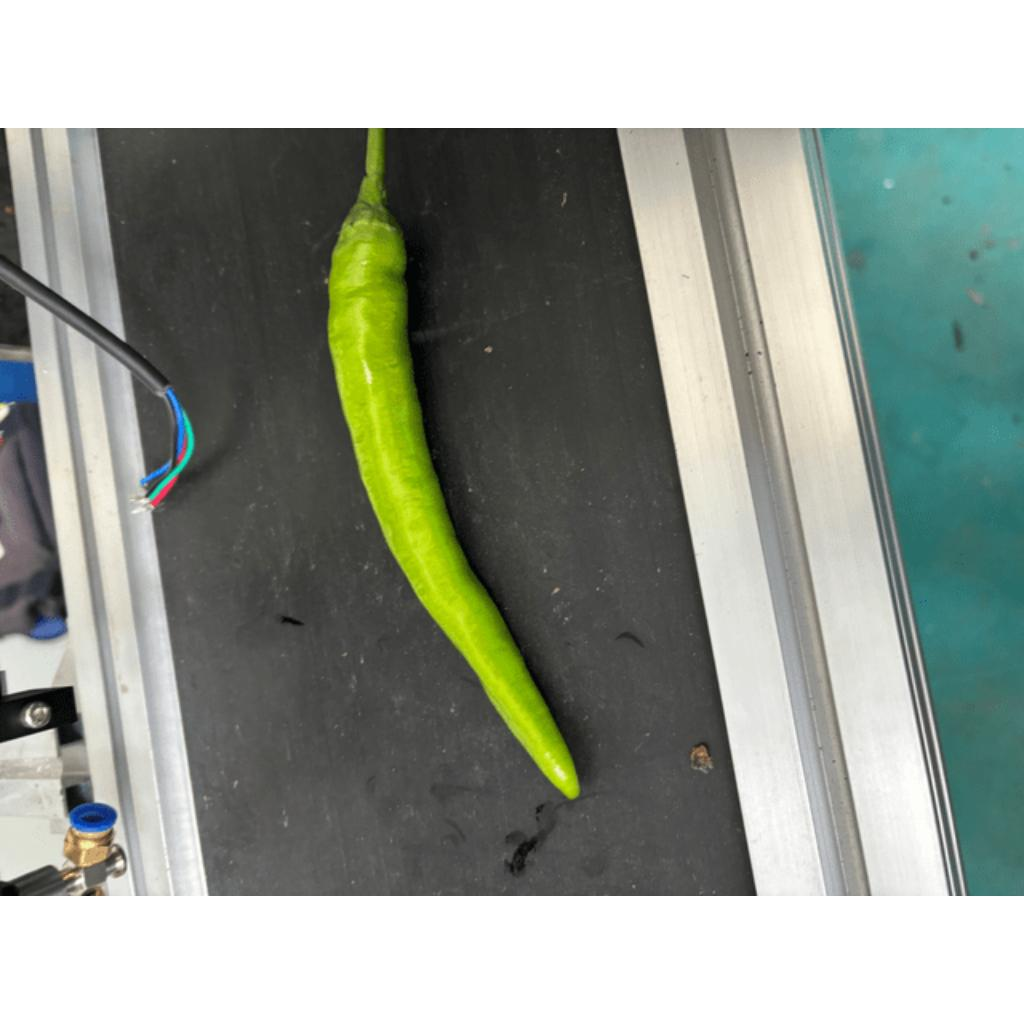chili: (325, 198, 586, 804)
